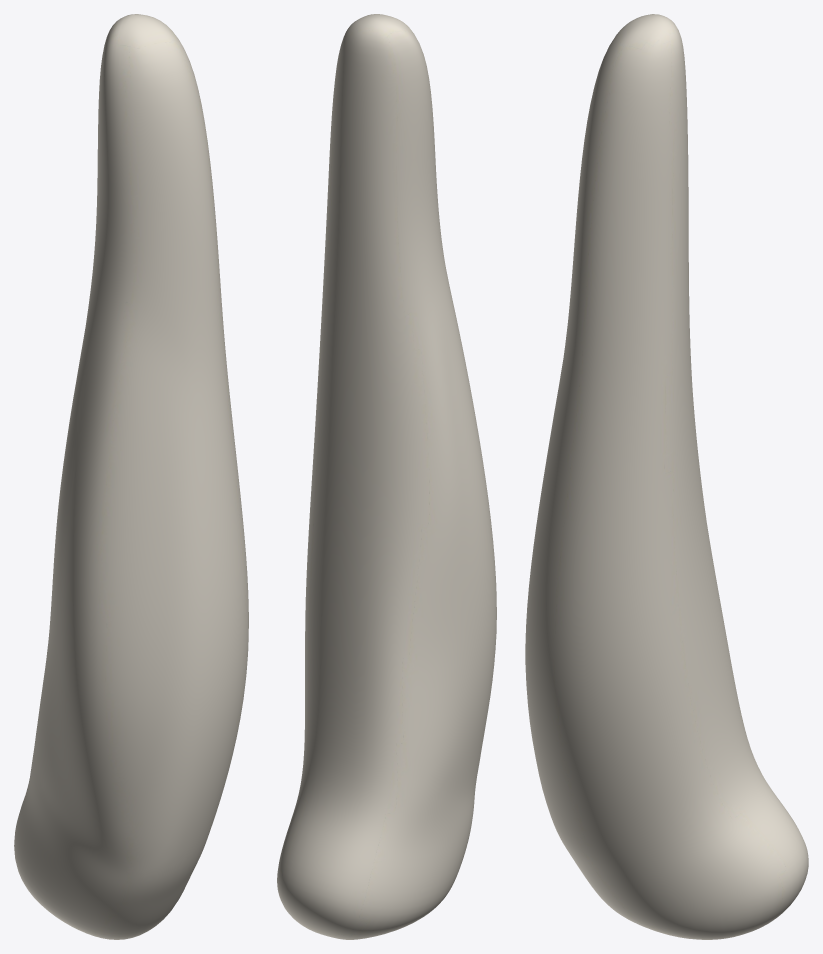
Rendered from rightLowerLeg.dae.
3 renders of one model, left to right at view 1: azimuth 30°, elevation 25°; view 2: azimuth 150°, elevation 25°; view 3: azimuth 270°, elevation 25°, orthographic. The views are drawn at different scales.
Parts seen in each view (by area): view 1: lower.1; view 2: lower.1; view 3: lower.1.
Part boxes in pixels (x1,y1,x2,y2): lower.1: (14, 14, 248, 939); lower.1: (277, 14, 496, 939); lower.1: (525, 14, 808, 939).
Bounding box in the file's own units: 38.61 × 198 × 55.83.
1 material, 1 textured.
